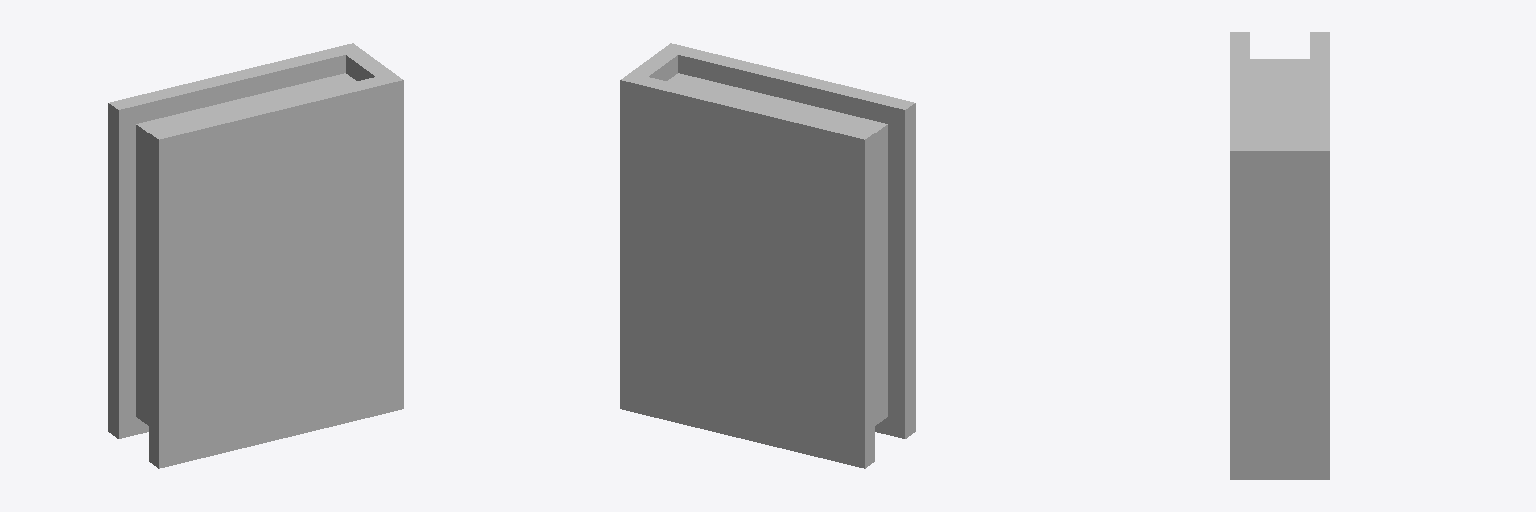
File: Fire Book.obj
3 views of the same model, side by side, from view 1: azimuth 30°, elevation 25°; view 2: azimuth 150°, elevation 25°; view 3: azimuth 270°, elevation 25° (orthographic).
Visible parts, largest first — view 1: object 1; view 2: object 1; view 3: object 1.
Boxes of the visible parts, <box> form: object 1: <box>108,43,403,468</box>; object 1: <box>620,43,915,468</box>; object 1: <box>1230,32,1329,479</box>.
Size of the model in its own units: 1.4 by 1.8 by 0.5.